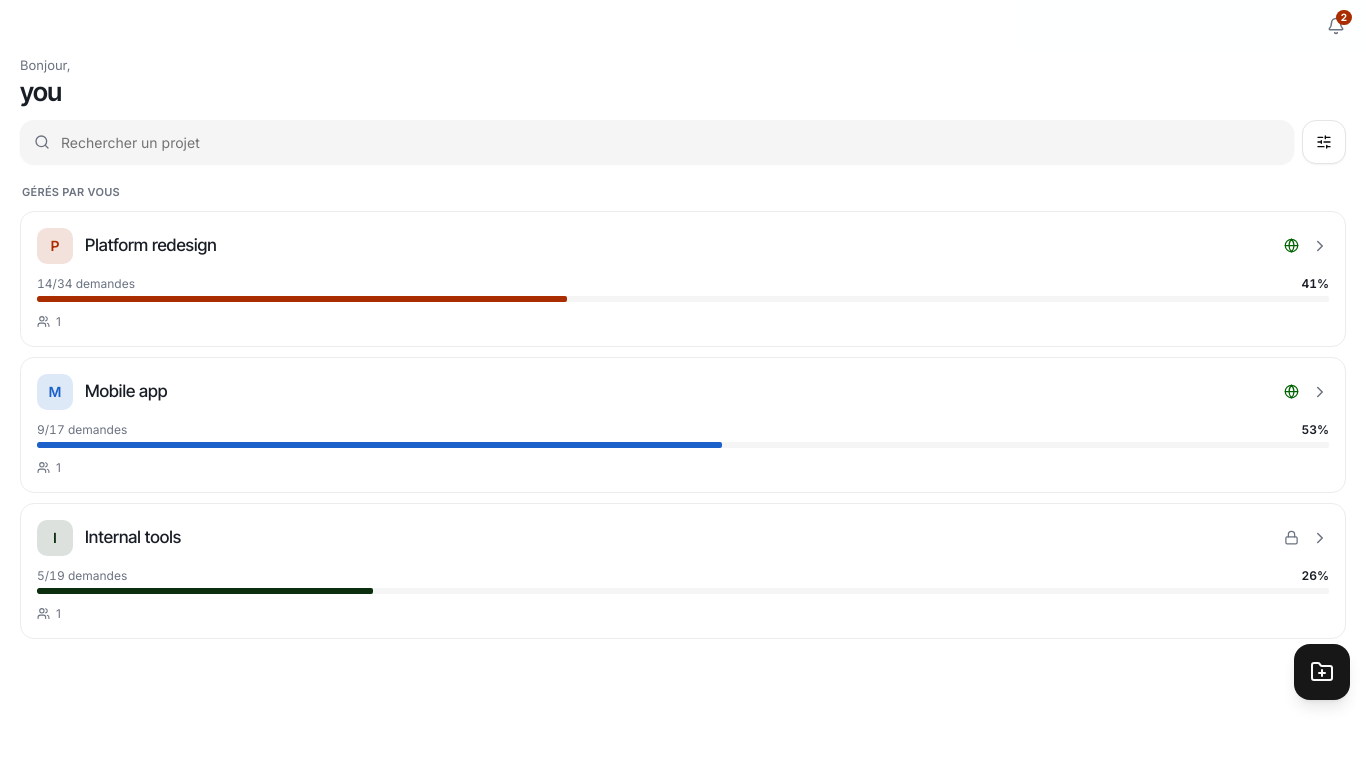
Test: mobile home (#221) › renders owned project cards and filters them by search
The image size is (1366, 768).
Expected: the text "Platform redesign" is shown, [85, 235, 217, 255]
Type "zzzz-no-such-project" into the field labelled "Rechercher un projet".
click(657, 142); type("zzzz-no-such-project")  # box [20, 120, 1294, 164]
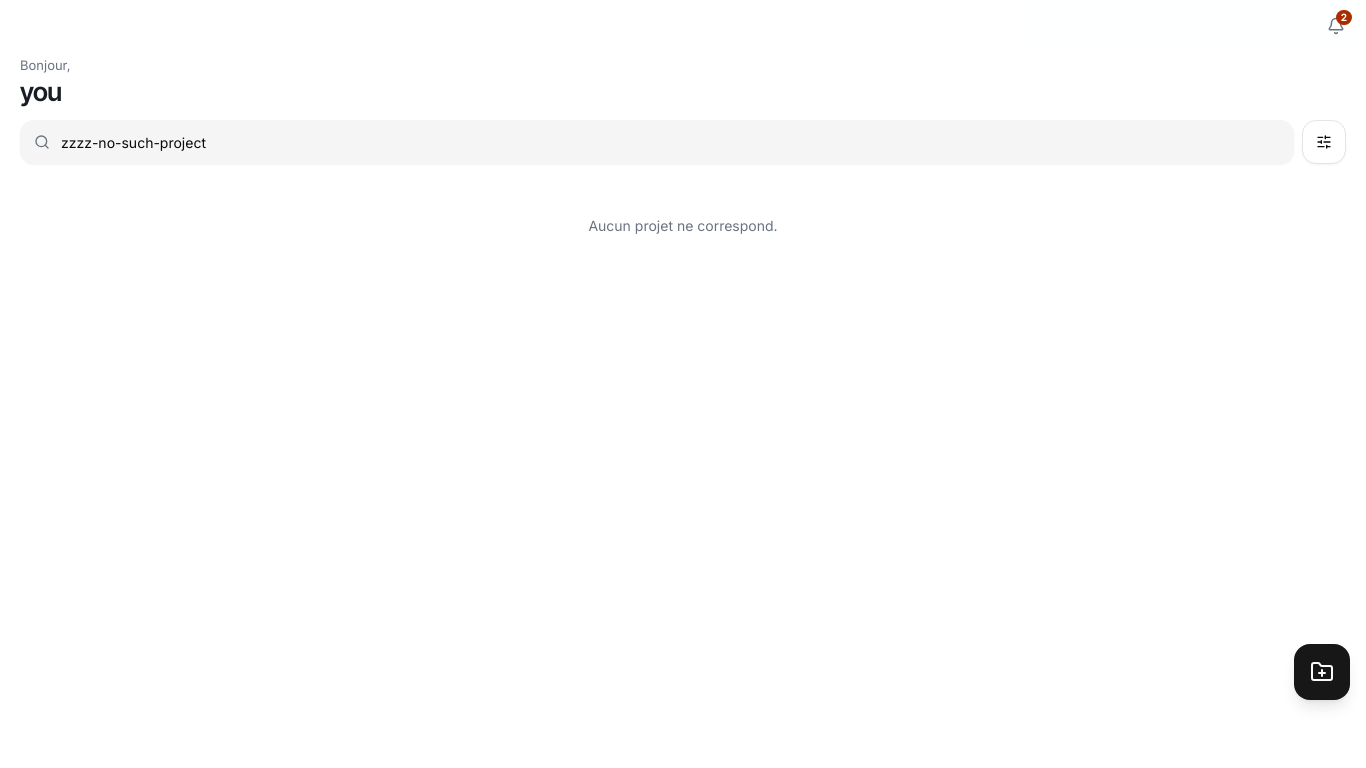
Expected: the link "Platform redesign" is gone
Expected: the text "Aucun projet ne correspond." is shown, [588, 217, 778, 234]
